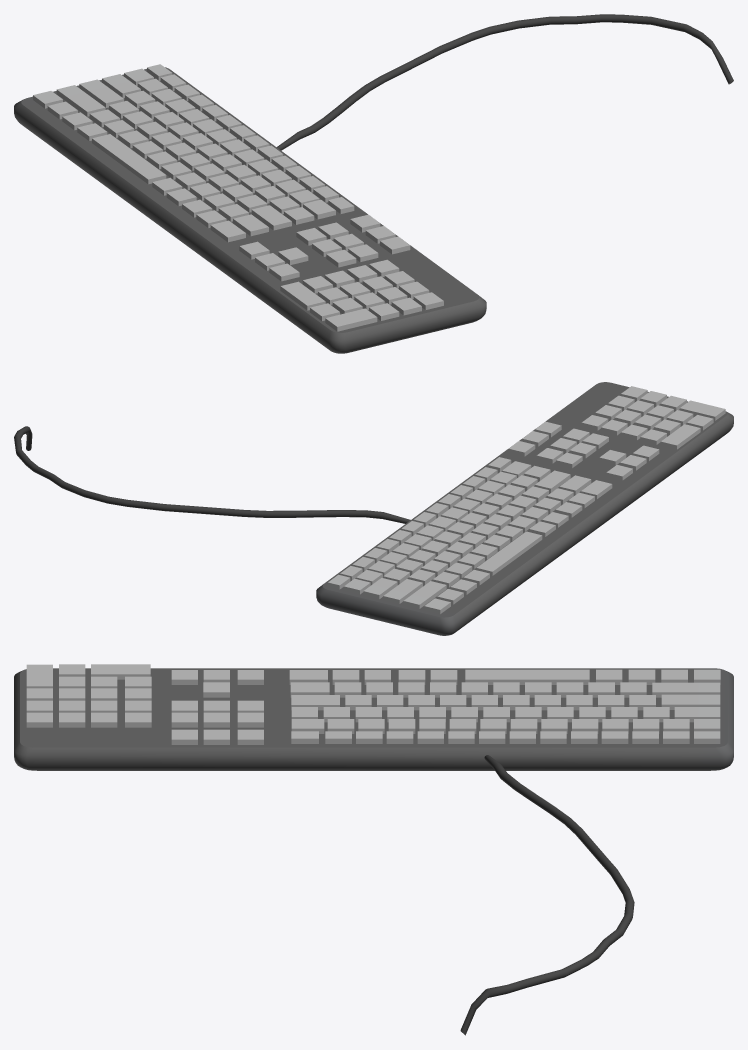
The model's file is Keyboard with Cable.fbx.
3 views of the same model, one above another, from view 1: azimuth 30°, elevation 25°; view 2: azimuth 150°, elevation 25°; view 3: azimuth 270°, elevation 25° (orthographic). The views are drawn at different scales.
Parts seen in each view (by area): view 1: Keyboard with Cable; view 2: Keyboard with Cable; view 3: Keyboard with Cable.
Boxes of the visible parts, x1=… form: Keyboard with Cable: x1=14, y1=14, x2=733, y2=353; Keyboard with Cable: x1=14, y1=382, x2=733, y2=635; Keyboard with Cable: x1=14, y1=664, x2=733, y2=1035.
Size of the model in its own units: 0.6104 by 0.5715 by 0.0451.
